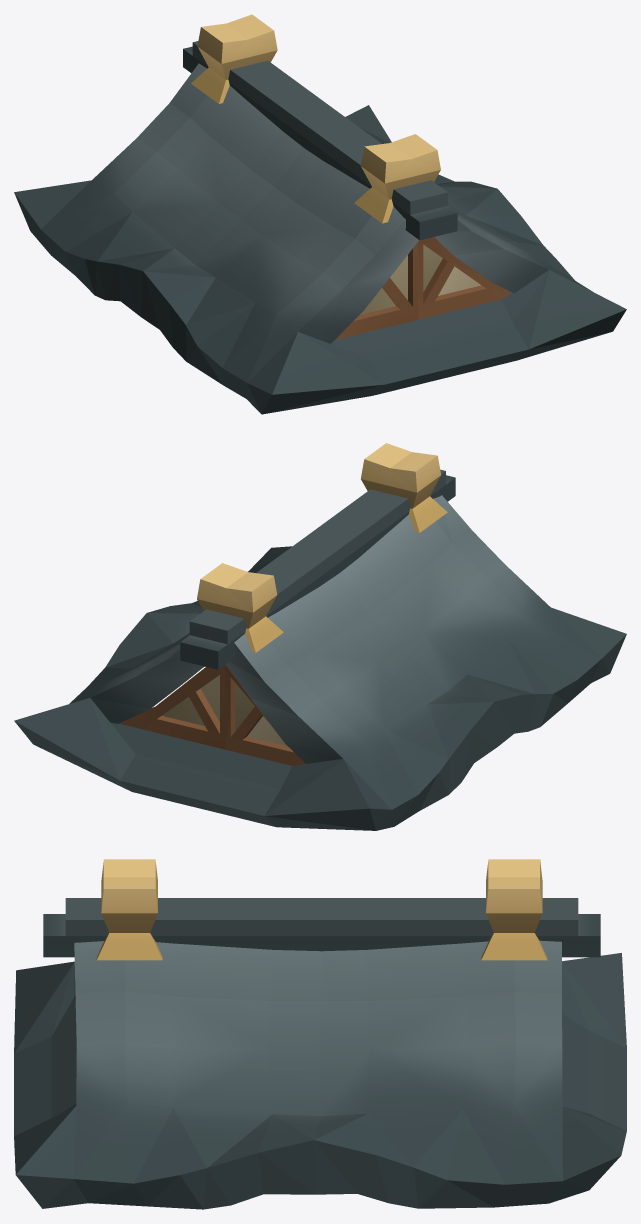
File: Shrine_RoofFull.fbx
3 renders of one model, top to bottom at view 1: azimuth 30°, elevation 25°; view 2: azimuth 150°, elevation 25°; view 3: azimuth 270°, elevation 25°, orthographic. The views are drawn at different scales.
Visible parts, largest first — view 1: Shrine_RoofFull; view 2: Shrine_RoofFull; view 3: Shrine_RoofFull.
Boxes of the visible parts, left/top/right/bottom form: Shrine_RoofFull: left=14, top=14, right=626, bottom=414; Shrine_RoofFull: left=14, top=443, right=626, bottom=830; Shrine_RoofFull: left=14, top=859, right=626, bottom=1209.
Bounding box in the file's own units: 4.67 × 2.57 × 5.92.
1 material, 1 textured.
